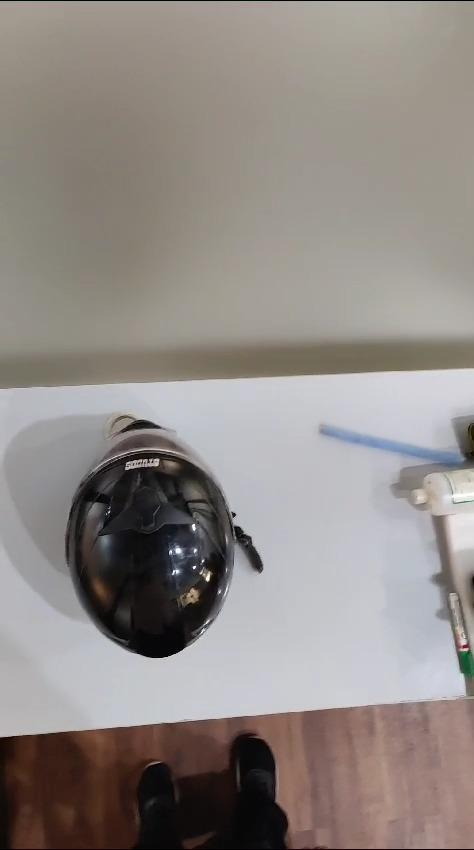Helmet: (66, 415, 262, 656)
